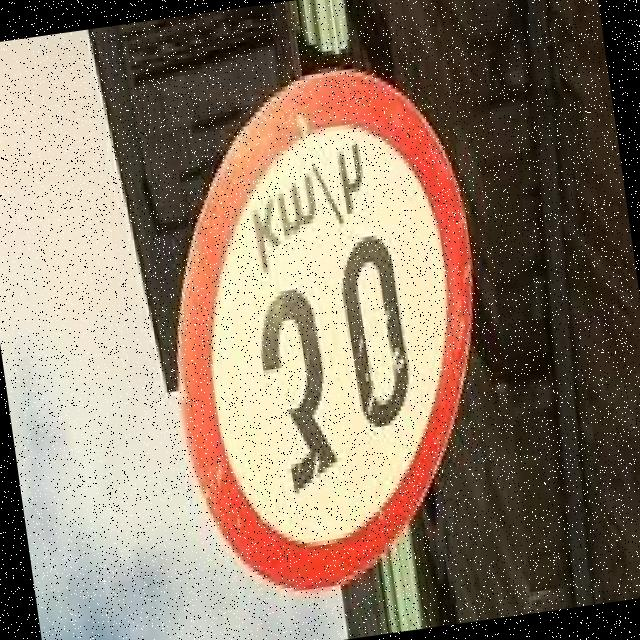speed_limit_30: (129, 36, 532, 624)
